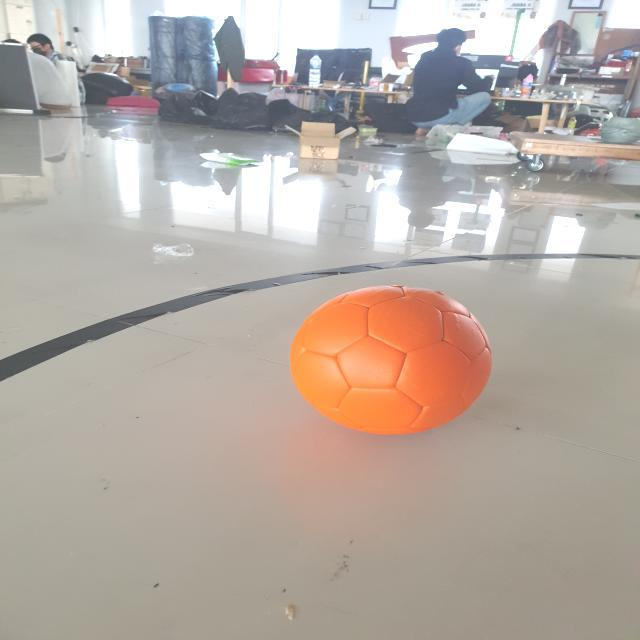bola: (280, 276, 504, 440)
